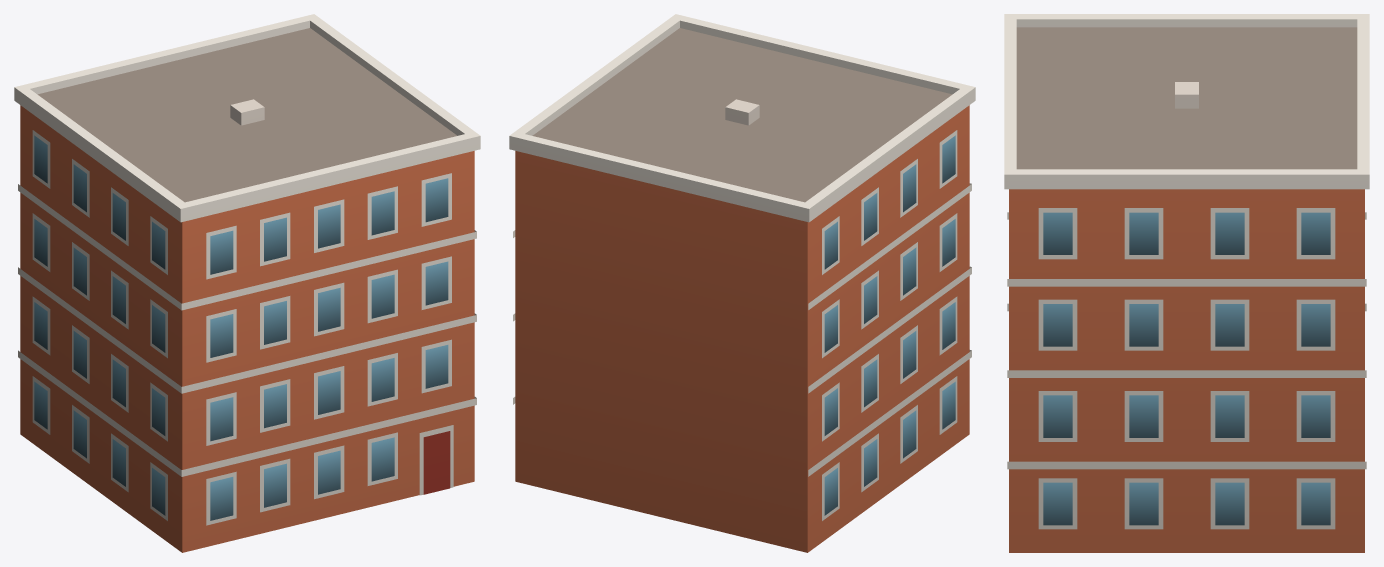
Rendered from vee_rightbb2_far.glb.
3 renders of one model, left to right at view 1: azimuth 30°, elevation 25°; view 2: azimuth 150°, elevation 25°; view 3: azimuth 270°, elevation 25°, orthographic. The views are drawn at different scales.
Parts seen in each view (by area): view 1: vee_rightbb2_far; view 2: vee_rightbb2_far; view 3: vee_rightbb2_far.
Part boxes in pixels (x1,y1,x2,y2): vee_rightbb2_far: [14, 14, 480, 552]; vee_rightbb2_far: [509, 14, 975, 552]; vee_rightbb2_far: [1004, 14, 1369, 552].
Size of the model in its own units: 12.82 by 14.37 by 12.32.
1 material, 1 textured.
